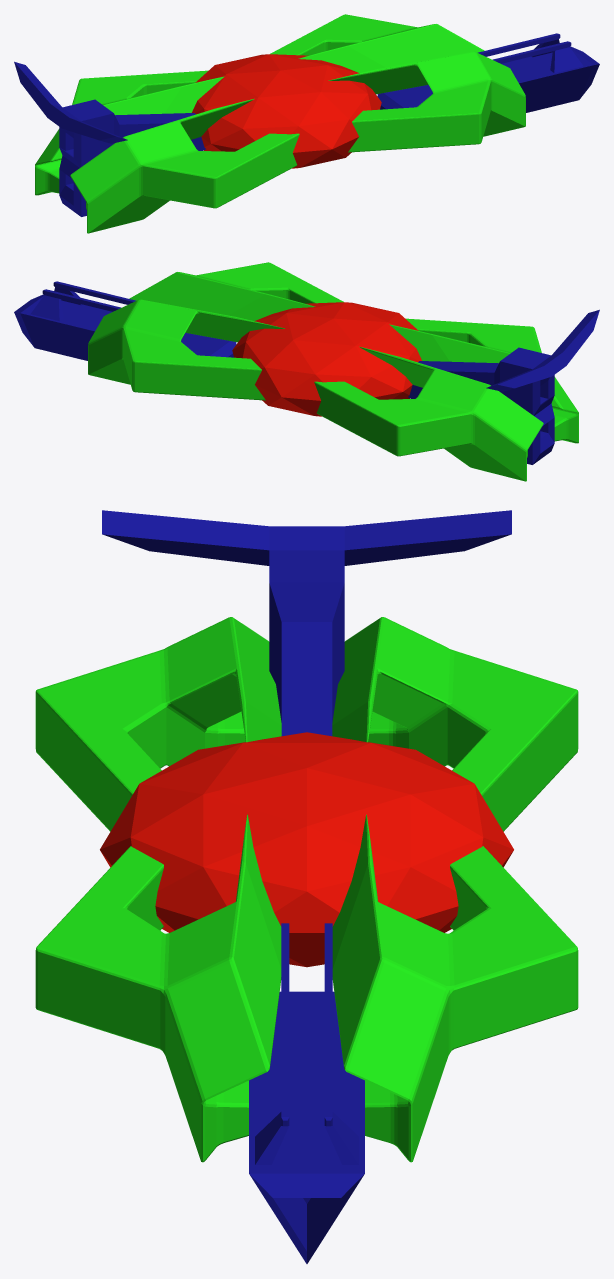
File: NPCA.fbx
3 renders of one model, top to bottom at view 1: azimuth 30°, elevation 25°; view 2: azimuth 150°, elevation 25°; view 3: azimuth 270°, elevation 25°, orthographic. The views are drawn at different scales.
Parts seen in each view (by area): view 1: Fuselage, Cockpit, Engine, Gun; view 2: Fuselage, Cockpit, Engine, Gun; view 3: Fuselage, Cockpit, Engine, Gun.
Boxes of the visible parts, x1,y1,x2,y2 form: Fuselage: [35, 14, 525, 233]; Cockpit: [192, 54, 381, 168]; Engine: [14, 61, 205, 216]; Gun: [377, 33, 599, 112]; Fuselage: [88, 262, 578, 481]; Cockpit: [232, 302, 421, 416]; Engine: [408, 309, 599, 464]; Gun: [14, 281, 236, 360]; Fuselage: [35, 617, 578, 1162]; Cockpit: [100, 732, 513, 967]; Engine: [102, 510, 511, 736]; Gun: [249, 923, 364, 1263].
Size of the model in its own units: 1847 by 416 by 808.
